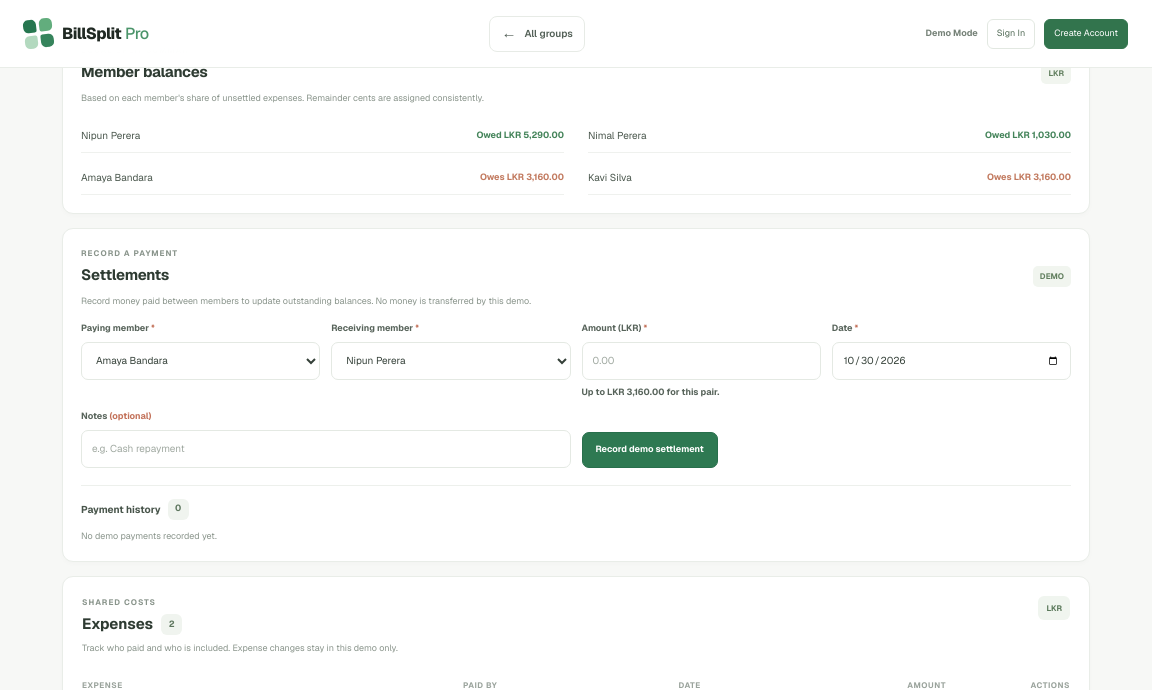
Scenario: group management screens › protects expense history from edits after a settlement is recorded
The width and height of the screenshot is (1152, 690).
(page scrolled)
Type "100.00" into the field labelled "Amount (LKR) * Up to LKR 3,160.00 for this pair.". click: (701, 360)
box: [582,342,821,380]
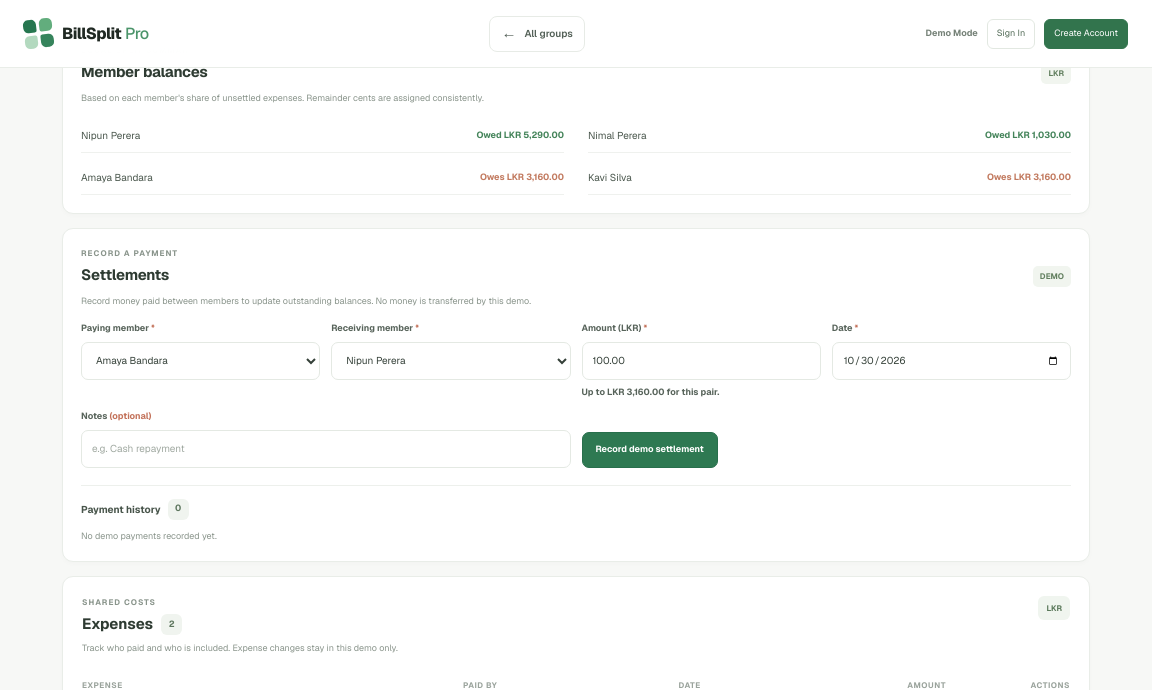
Click the button "Record demo settlement". click: (650, 450)
box: [582,432,718,468]
(page scrolled)
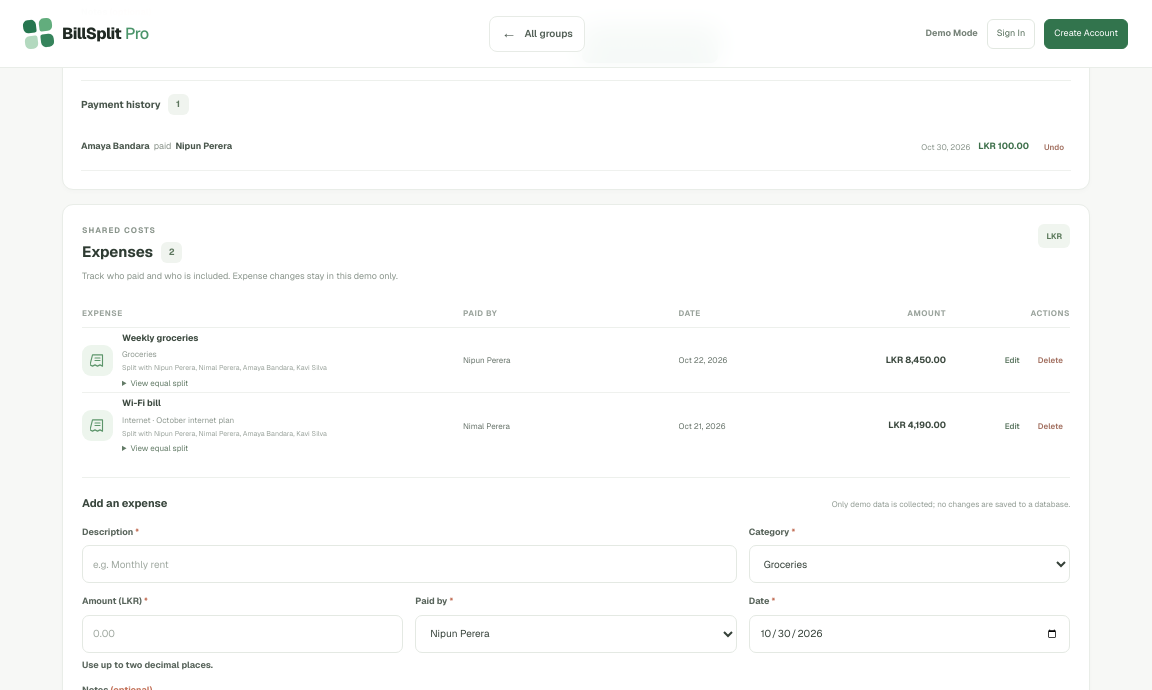
Click the button with aria-label "Edit Weekly groceries". click: (1012, 360)
box: [998,346,1027,375]
(page scrolled)
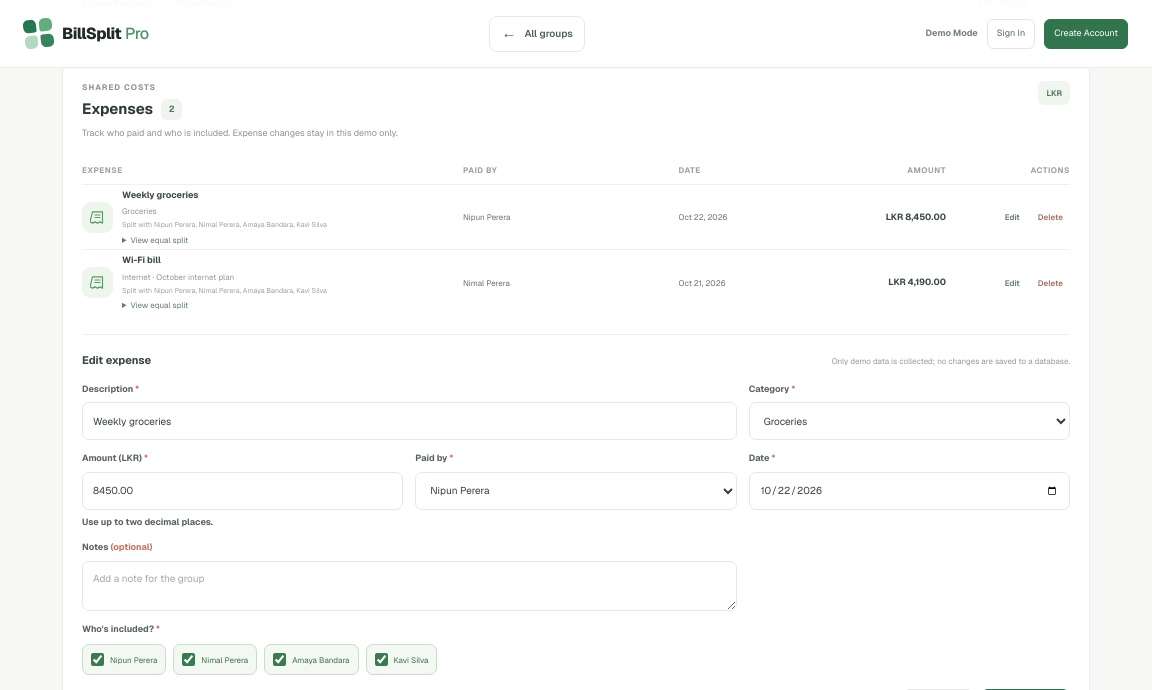
Replace the text in the field labelled "Amount (LKR) * Use up to two decimal places." with "9999.99". click: (243, 491)
box: [82,472,403,510]
(page scrolled)
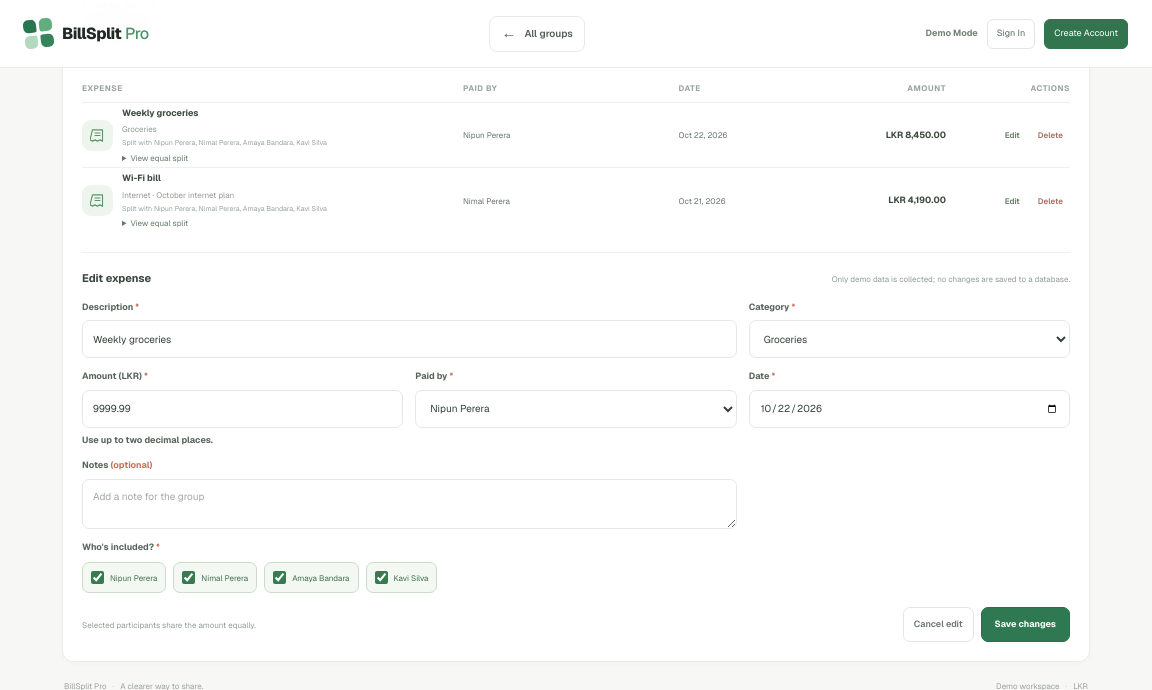
Click the button "Save changes". click: (1025, 625)
box: [981,607,1070,642]
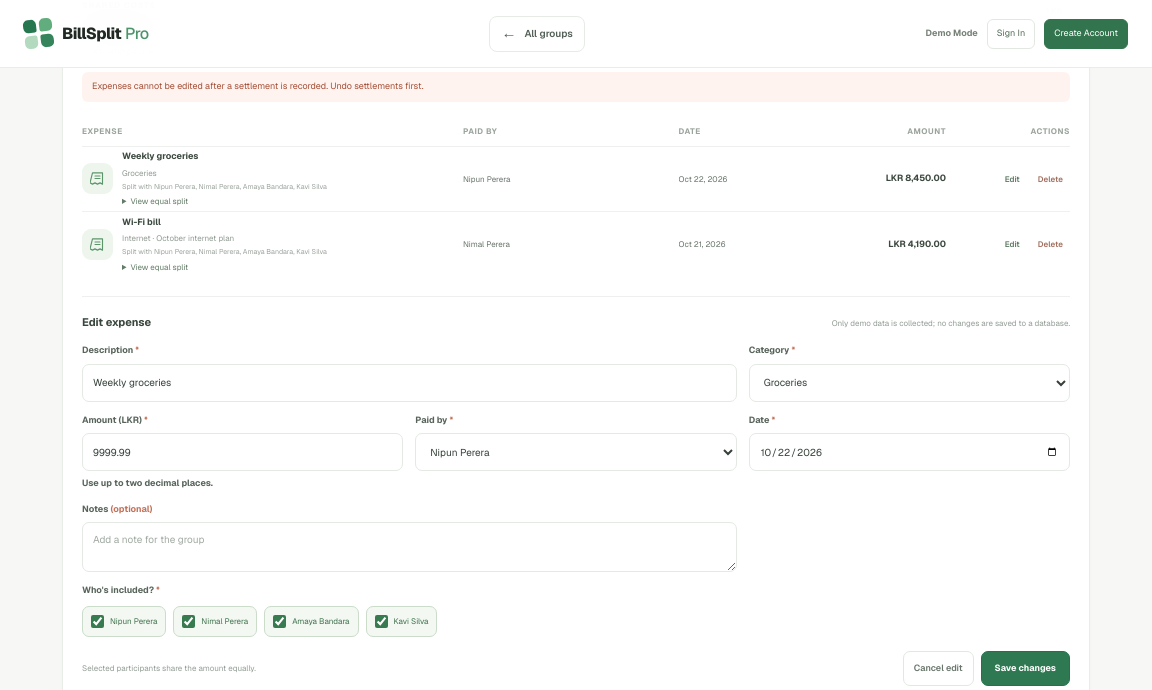
expect the text "LKR 8,450.00" is shown: met, box [886,172,946,184]
expect the message shows "Expenses cannot be edited after a settlement is recorded.": met, box [92,80,424,92]
